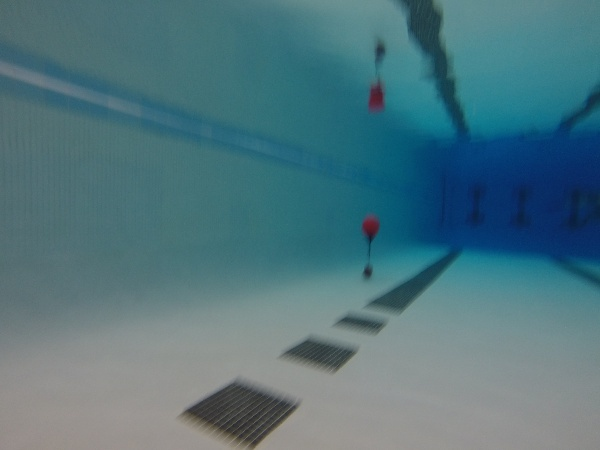buoy_red: (360, 214, 379, 242)
